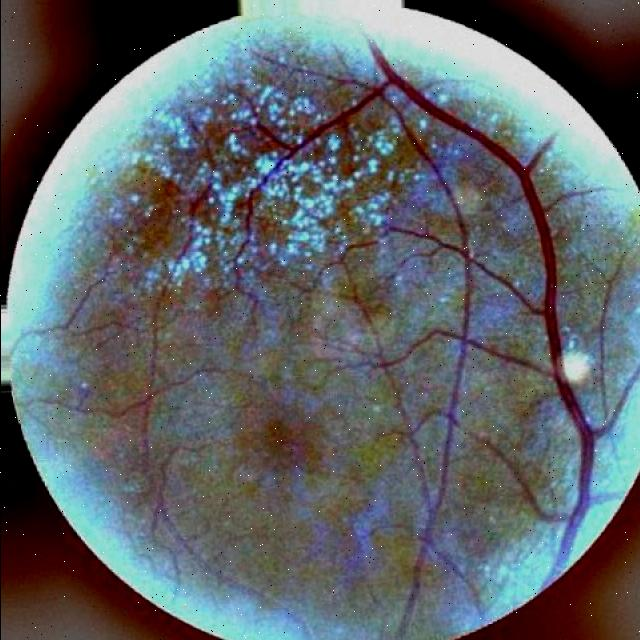Macula: (250, 415, 317, 476)
Nerves: (231, 41, 601, 640), (385, 115, 472, 267), (117, 317, 207, 449), (396, 393, 429, 461)
